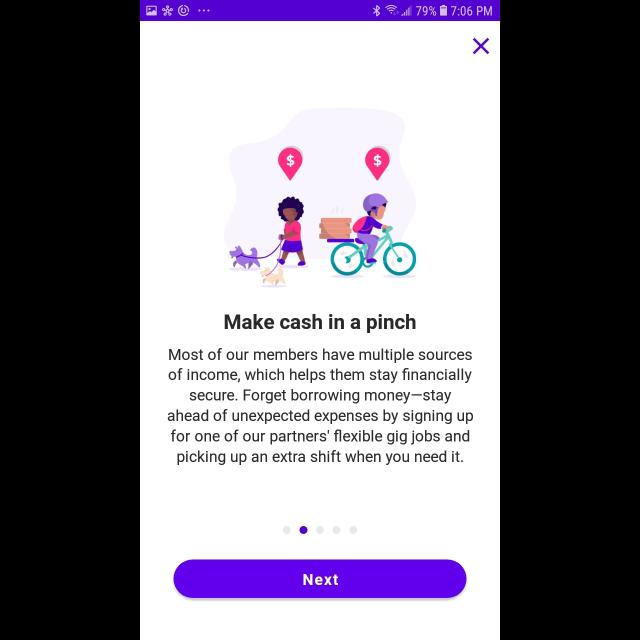icon: (472, 37, 490, 54)
image: (224, 108, 416, 288)
pageindicator: (283, 526, 357, 534)
text: (168, 347, 472, 465), (224, 314, 416, 334)
textbutton: (174, 560, 466, 598)
uppertaskbar: (140, 1, 500, 22)
